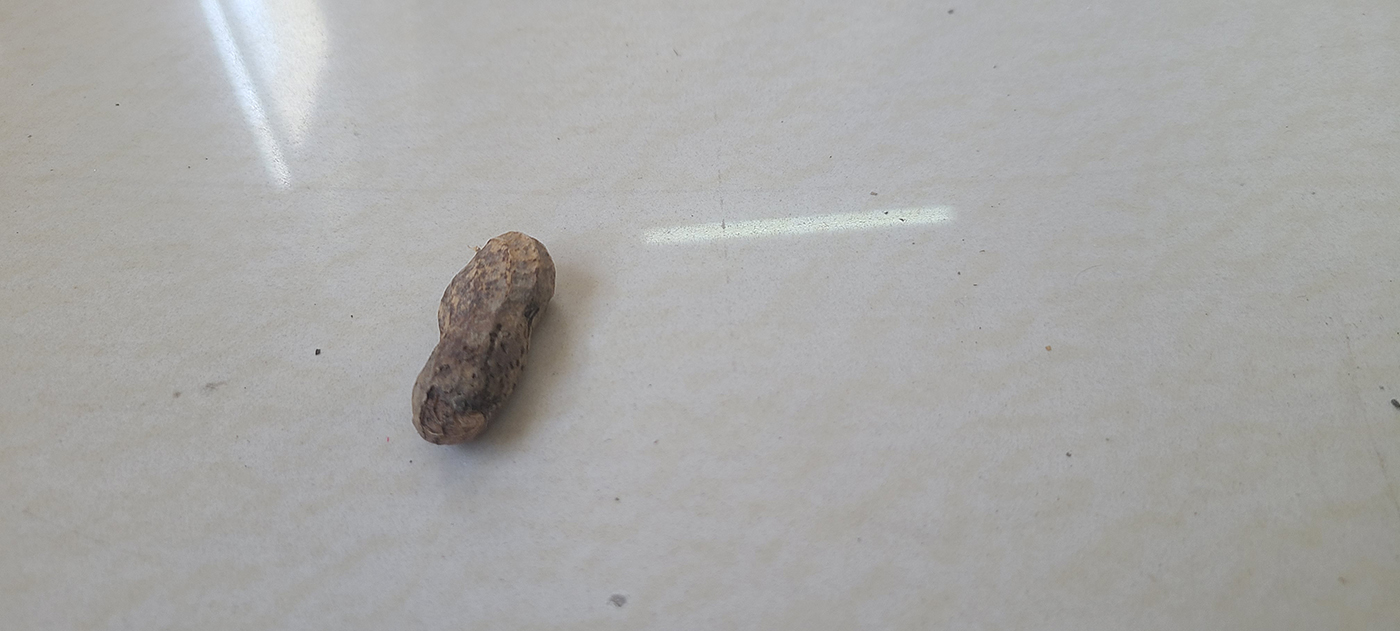l: (414, 232, 556, 446)
